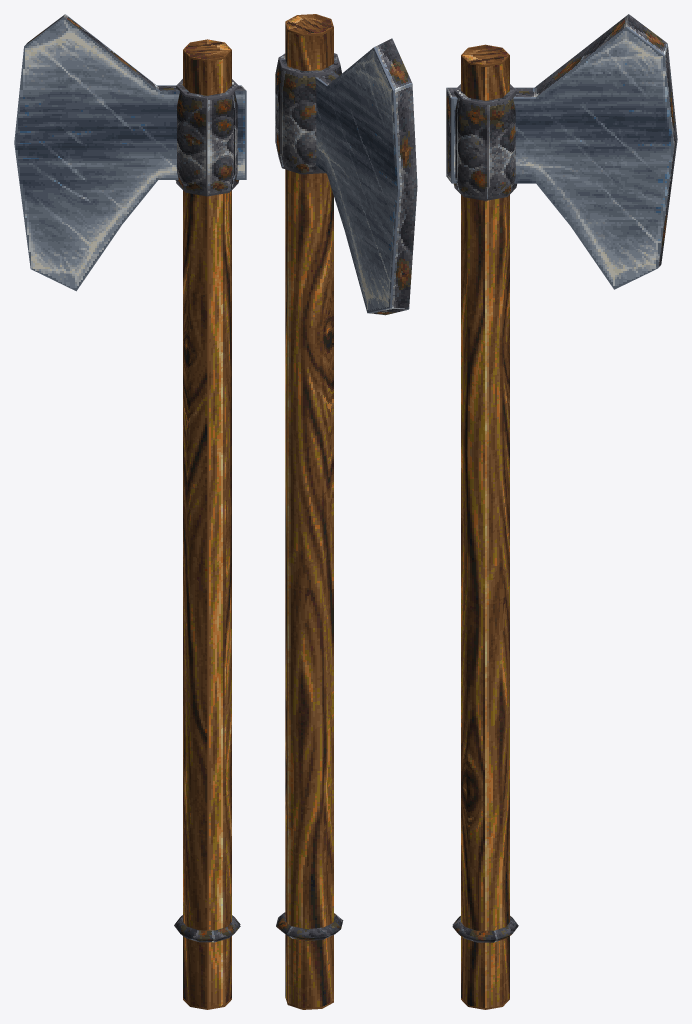
File: bearded_axe.glb
3 views of the same model, side by side, from view 1: azimuth 90°, elevation 25°; view 2: azimuth 210°, elevation 25°; view 3: azimuth 270°, elevation 25° (orthographic). The views are drawn at different scales.
Parts seen in each view (by area): view 1: bearded_axe; view 2: bearded_axe; view 3: bearded_axe.
Part boxes in pixels (x1=…): bearded_axe: x1=14, y1=14, x2=246, y2=1009; bearded_axe: x1=275, y1=14, x2=417, y2=1009; bearded_axe: x1=446, y1=14, x2=677, y2=1009.
Size of the model in its own units: 0.042 by 0.665 by 0.142.
1 material, 1 textured.
